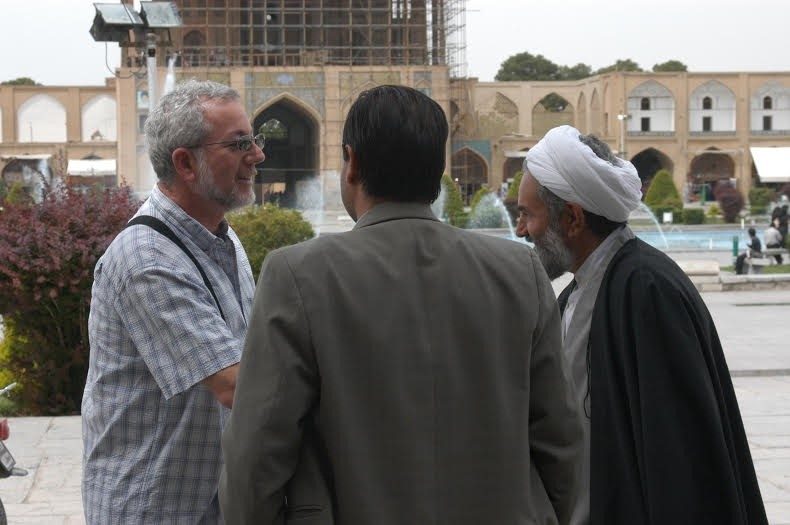face_no_mask: (152, 84, 266, 217)
